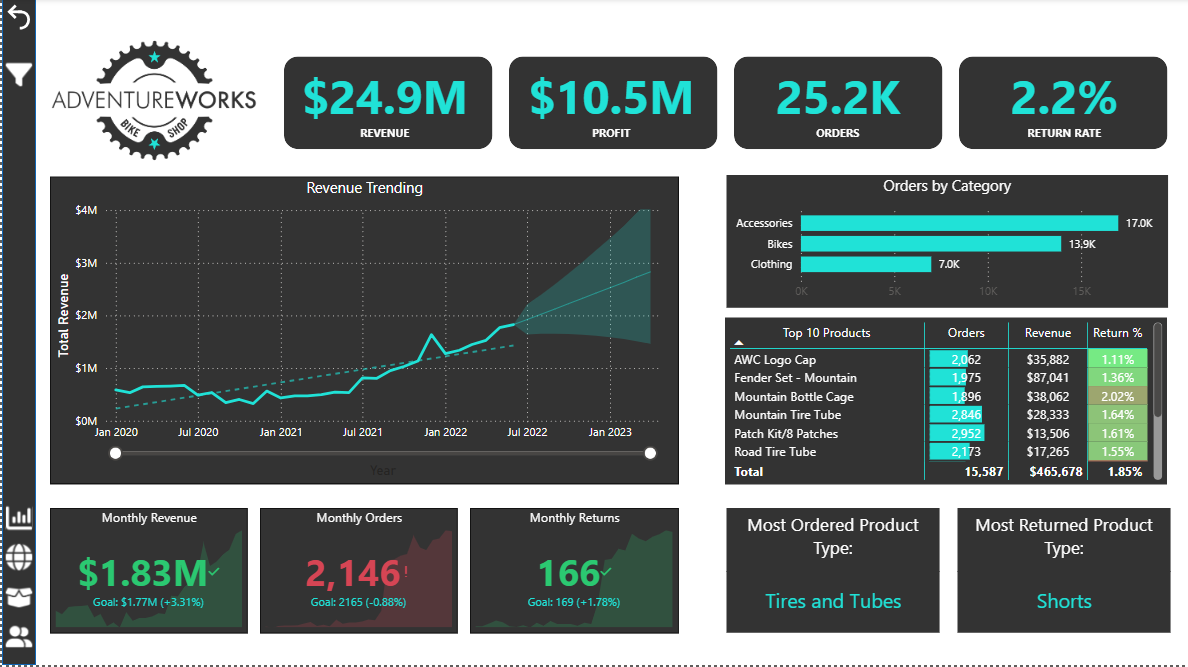

What the dashboard file says about the page in this screenshot:
{"tool":"powerbi","page":{"name":"Executive Dashboard","canvas":[1280,720],"ordinal":0},"visuals":[{"type":"image","title":"AW Logo","box":[25,16.7,280,188.3],"z":0},{"type":"card","fields":{"Values":["Measure Table.Total Revenue"]},"box":[278.4,30.2,268.8,162.2],"z":0,"group":"g2"},{"type":"group","id":"g1","title":"KPI Backgrounds","box":[305,63.3,953.3,100],"z":0,"group":"g3"},{"type":"shape","box":[305,63.3,225,100],"z":0,"group":"g1"},{"type":"actionButton","box":[0,531.7,36.7,60],"z":0,"group":"g4"},{"type":"shape","title":"Left Navigation Background","box":[0,0,36.7,720],"z":1000},{"type":"group","id":"g2","title":"KPI Values","box":[278.4,30.2,1001.6,162.2],"z":1000,"group":"g3"},{"type":"card","fields":{"Values":["Measure Table.Total Profit"]},"box":[522.8,30.2,268.8,162.2],"z":1000,"group":"g2"},{"type":"shape","box":[1033.3,63.3,225,100],"z":1000,"group":"g1"},{"type":"actionButton","box":[0,617.3,36.7,60],"z":1000,"group":"g4"},{"type":"group","id":"g3","title":"KPIs","box":[278.4,30.2,1001.6,162.2],"z":2000},{"type":"card","fields":{"Values":["Measure Table.Return Rate"]},"box":[1011.2,30.2,268.8,162.2],"z":2000,"group":"g2"},{"type":"shape","box":[547.8,63.3,225,100],"z":2000,"group":"g1"},{"type":"actionButton","box":[0,660,36.7,60],"z":2000,"group":"g4"},{"type":"card","fields":{"Values":["Measure Table.Total Orders"]},"box":[767.2,30.2,268.8,162.2],"z":3000,"group":"g2"},{"type":"shape","box":[790.6,63.3,225,100],"z":3000,"group":"g1"},{"type":"kpi","title":"Monthly Revenue","fields":{"Indicator":["Measure Table.Total Revenue"],"TrendLine":["Calendar Lookup.Start of Month"],"Goal":["Measure Table.Previous Month Revenue"]},"box":[51.7,550,213.3,135],"z":3000},{"type":"actionButton","box":[0,574.5,36.7,60],"z":3000,"group":"g4"},{"type":"lineChart","title":"Revenue Trending","fields":{"Y":["Measure Table.Total Revenue"],"Category":["Calendar Lookup.Date.Variation.Date Hierarchy.Year","Calendar Lookup.Date.Variation.Date Hierarchy.Quarter","Calendar Lookup.Date.Variation.Date Hierarchy.Month"]},"box":[51.7,193.3,678.3,331.7],"z":4000},{"type":"kpi","title":"Monthly Orders","fields":{"TrendLine":["Calendar Lookup.Start of Month"],"Indicator":["Measure Table.Total Orders"],"Goal":["Measure Table.Previous Month Orders"]},"box":[278.3,550,213.3,135],"z":5000},{"type":"kpi","title":"Monthly Returns","fields":{"TrendLine":["Calendar Lookup.Start of Month"],"Indicator":["Measure Table.Total Returns"],"Goal":["Measure Table.Previous Month Returns"]},"box":[505,550,225,135],"z":6000},{"type":"clusteredBarChart","title":"Orders by Category","fields":{"Category":["Product Categories Lookup.CategoryName"],"Y":["Measure Table.Total Orders"]},"box":[781.7,191.7,476.7,143.3],"z":7000},{"type":"pivotTable","fields":{"Rows":["Product Lookup.ProductName"],"Values":["Measure Table.Total Orders","Measure Table.Total Revenue","Measure Table.Return Rate"]},"box":[780,345,476.7,180],"z":8000},{"type":"card","fields":{"Values":["Min(Product Subcategories Lookup.SubcategoryName)"]},"box":[781.7,618.3,230,66.7],"z":9000},{"type":"textbox","box":[781.7,550,230,68.3],"z":10000},{"type":"card","fields":{"Values":["Min(Product Subcategories Lookup.SubcategoryName)"]},"box":[1031.7,618.3,230,66.7],"z":11000},{"type":"textbox","box":[1031.7,550,230,68.3],"z":12000},{"type":"actionButton","box":[0,0,36.7,40],"z":13000},{"type":"group","id":"g4","title":"Navigation Buttons","box":[0,531.7,36.7,188.3],"z":14000},{"type":"actionButton","box":[0,63.6,36.6,39.8],"z":15000}]}

Visuals, with their boxes on the page's 1280x720 design canvas (x1, y1, x2, y2). These are canvas units, not pixel positions in the 1188x667 screenshot, which may show the page scaled, cropped or inside an application window:
"AW Logo" image: <region>25, 17, 305, 205</region>
card - Measure Table.Total Revenue: <region>278, 30, 547, 192</region>
"KPI Backgrounds" group: <region>305, 63, 1258, 163</region>
shape: <region>305, 63, 530, 163</region>
actionButton: <region>0, 532, 37, 592</region>
"Left Navigation Background" shape: <region>0, 0, 37, 720</region>
"KPI Values" group: <region>278, 30, 1280, 192</region>
card - Measure Table.Total Profit: <region>523, 30, 792, 192</region>
shape: <region>1033, 63, 1258, 163</region>
actionButton: <region>0, 617, 37, 677</region>
"KPIs" group: <region>278, 30, 1280, 192</region>
card - Measure Table.Return Rate: <region>1011, 30, 1280, 192</region>
shape: <region>548, 63, 773, 163</region>
actionButton: <region>0, 660, 37, 720</region>
card - Measure Table.Total Orders: <region>767, 30, 1036, 192</region>
shape: <region>791, 63, 1016, 163</region>
"Monthly Revenue" kpi: <region>52, 550, 265, 685</region>
actionButton: <region>0, 574, 37, 634</region>
"Revenue Trending" lineChart: <region>52, 193, 730, 525</region>
"Monthly Orders" kpi: <region>278, 550, 492, 685</region>
"Monthly Returns" kpi: <region>505, 550, 730, 685</region>
"Orders by Category" clusteredBarChart: <region>782, 192, 1258, 335</region>
pivotTable - Product Lookup.ProductName x Measure Table.Total Orders: <region>780, 345, 1257, 525</region>
card - Min(Product Subcategories Lookup.SubcategoryName): <region>782, 618, 1012, 685</region>
textbox: <region>782, 550, 1012, 618</region>
card - Min(Product Subcategories Lookup.SubcategoryName): <region>1032, 618, 1262, 685</region>
textbox: <region>1032, 550, 1262, 618</region>
actionButton: <region>0, 0, 37, 40</region>
"Navigation Buttons" group: <region>0, 532, 37, 720</region>
actionButton: <region>0, 64, 37, 103</region>
